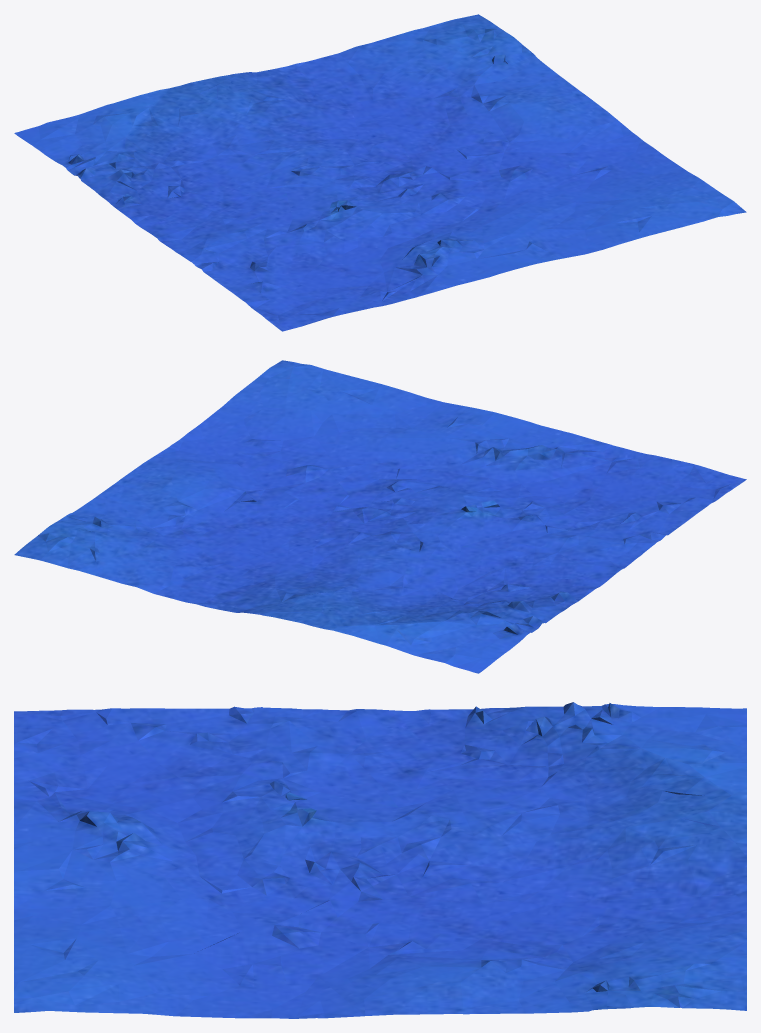
3 renders of one model, top to bottom at view 1: azimuth 30°, elevation 25°; view 2: azimuth 150°, elevation 25°; view 3: azimuth 270°, elevation 25°, orthographic. The views are drawn at different scales.
Size of the model in its own units: 13.06 by 0.4478 by 13.06.
Materials: 3 (3 with a texture image).
